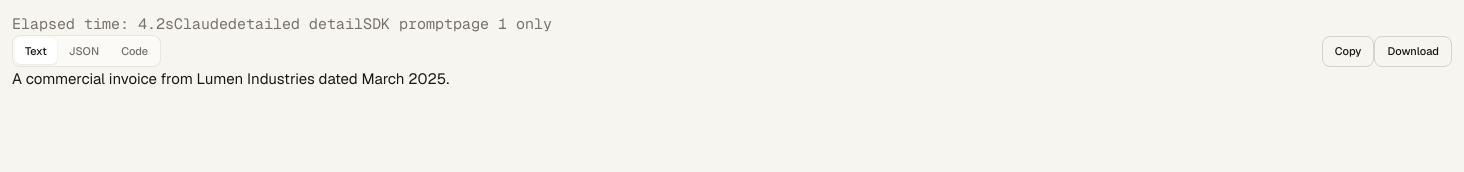
Test: DescribeResults › shows the snippet in the Code view
Click the button "Code".
click(135, 51)  # box left=111, top=38, right=158, bottom=64
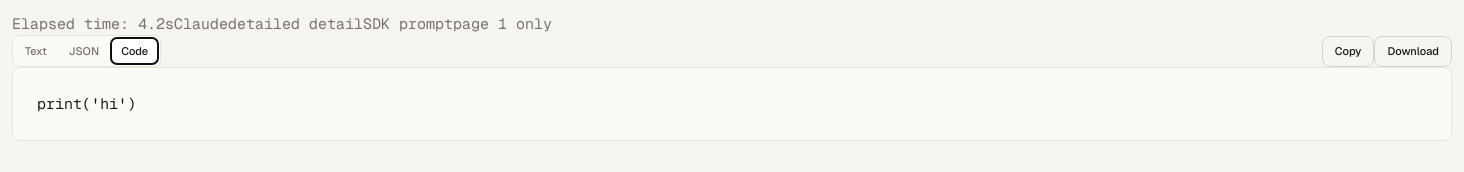
Expected: the text "print('hi')" is shown, left=12, top=67, right=1452, bottom=141
